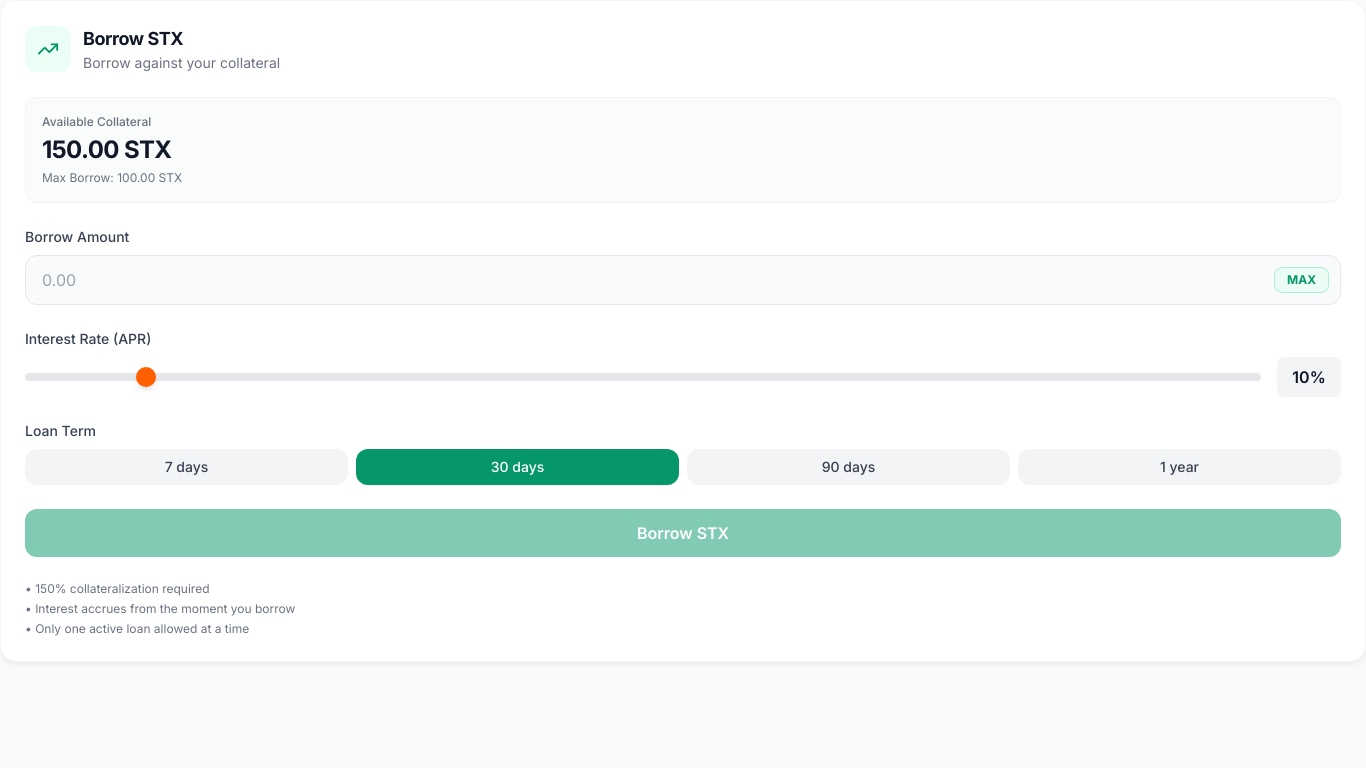
Test: BorrowCard Component › Collateral Validation › shows insufficient collateral warning
The width and height of the screenshot is (1366, 768).
Type "200" into the number field with placeholder "0.00".
click(683, 280); type("200")  # box 25,255 -> 1341,305
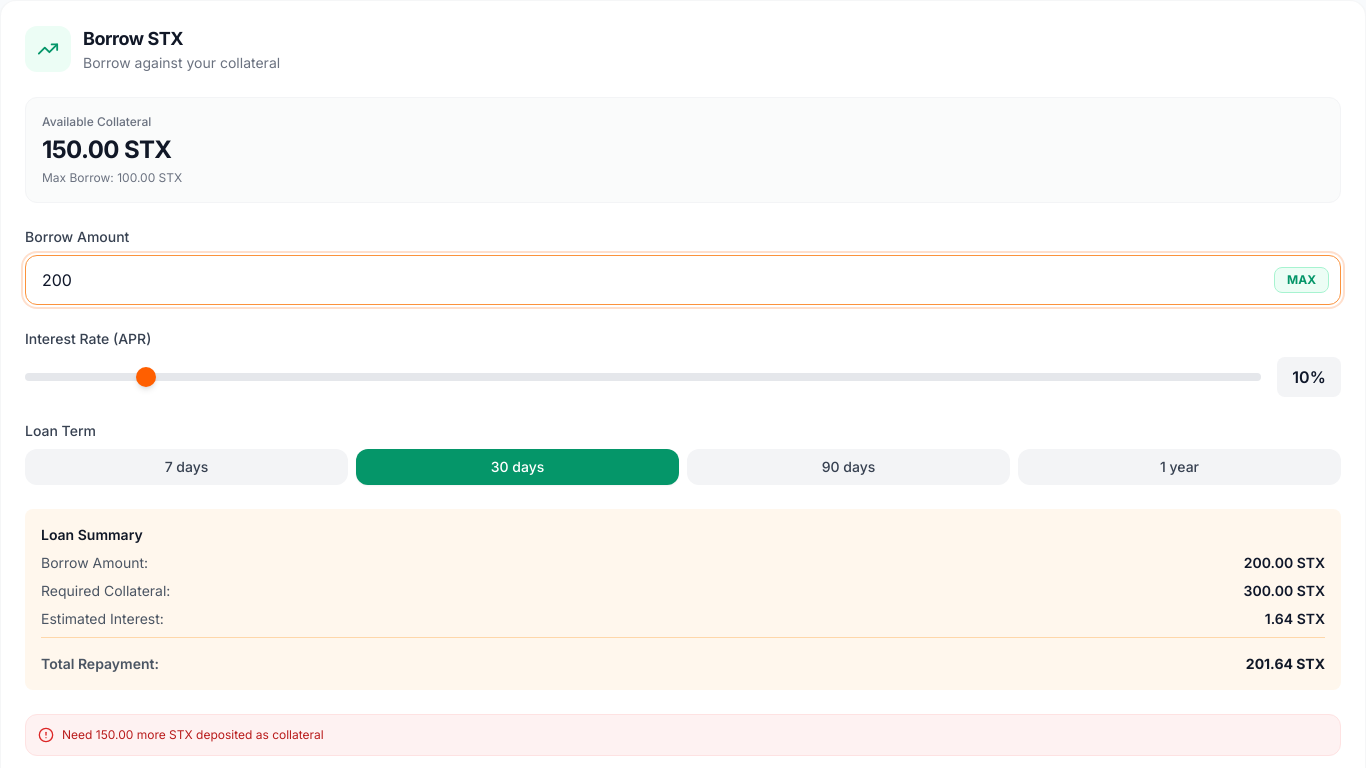
Result: the text "Need 150.00 more STX deposited as collateral" is shown at 62,727 -> 324,743
